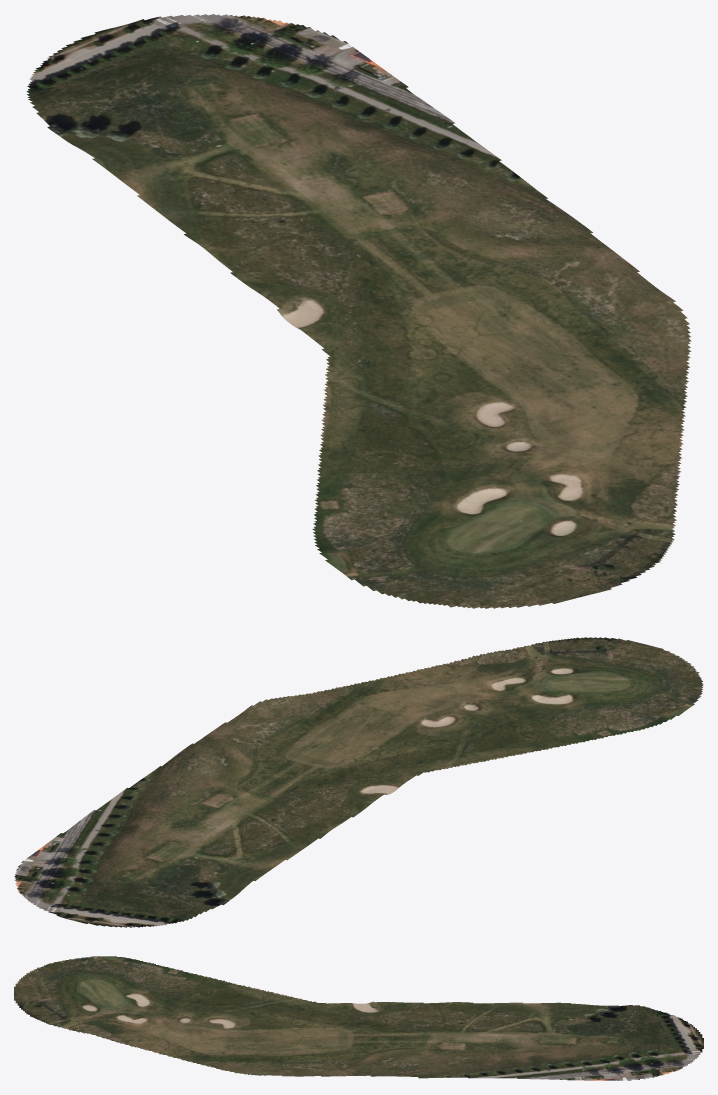
Rendered from black_5.glb.
3 views of the same model, one above another, from view 1: azimuth 30°, elevation 25°; view 2: azimuth 150°, elevation 25°; view 3: azimuth 270°, elevation 25° (orthographic). The views are drawn at different scales.
Visible parts, largest first — view 1: ground; view 2: ground; view 3: ground.
Boxes of the visible parts, bbox=[...] form: ground: bbox=[26, 14, 691, 608]; ground: bbox=[14, 637, 703, 927]; ground: bbox=[14, 956, 703, 1080].
Size of the model in its own units: 174 by 6.57 by 389.
Materials: 1 (1 with a texture image).
